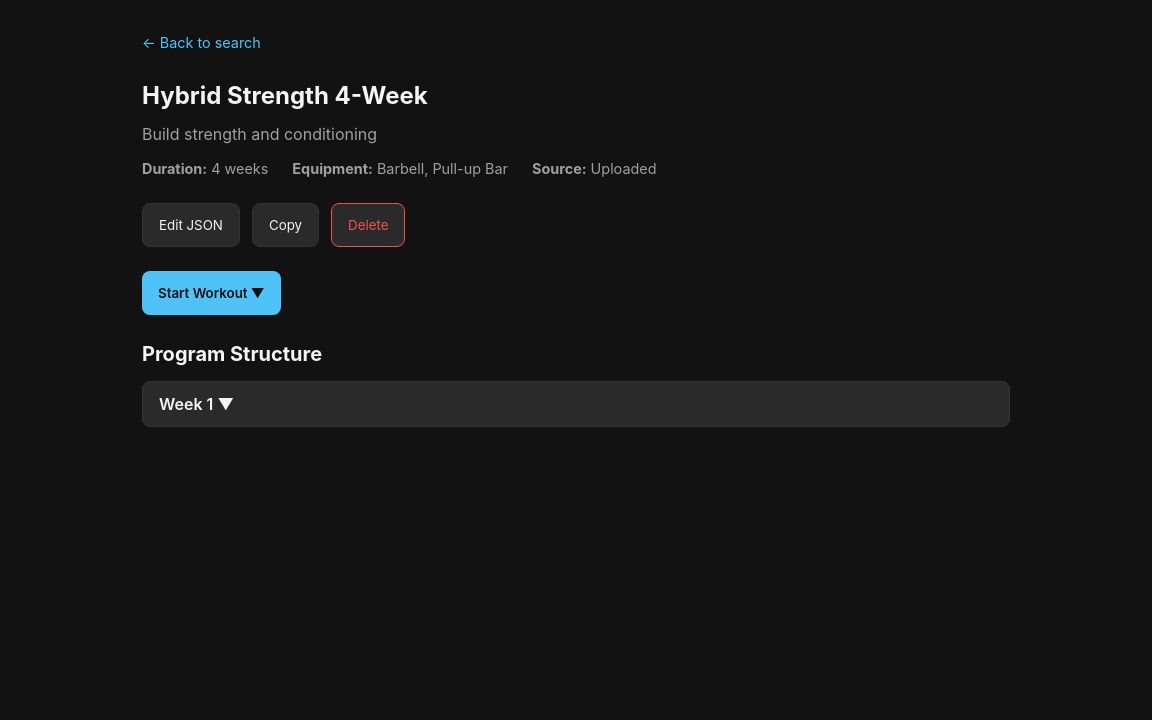
ProgramDetailPage › expands day to show focus area, modality, and sections when day button is clicked
The width and height of the screenshot is (1152, 720).
# Expand week first
Click the button "Week 1 ▼": (183, 404) [142,381,1010,427]
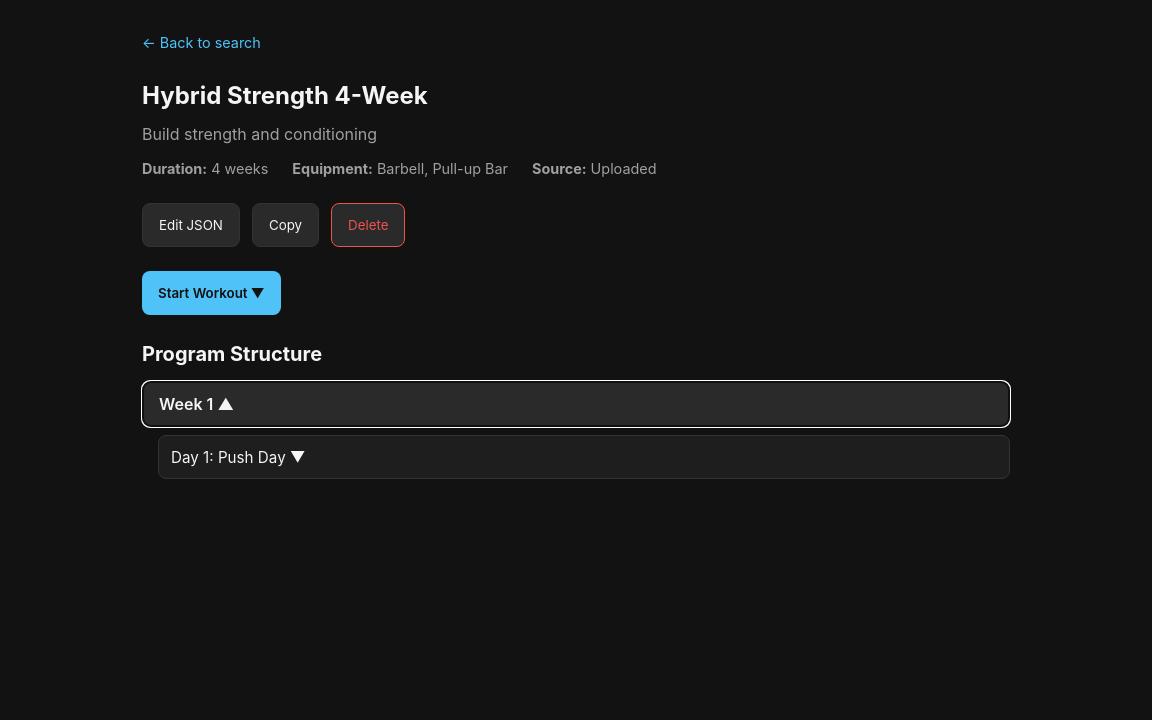
# Expand day
Click the button "Day 1: Push Day ▼": (187, 457) [158,435,1010,479]
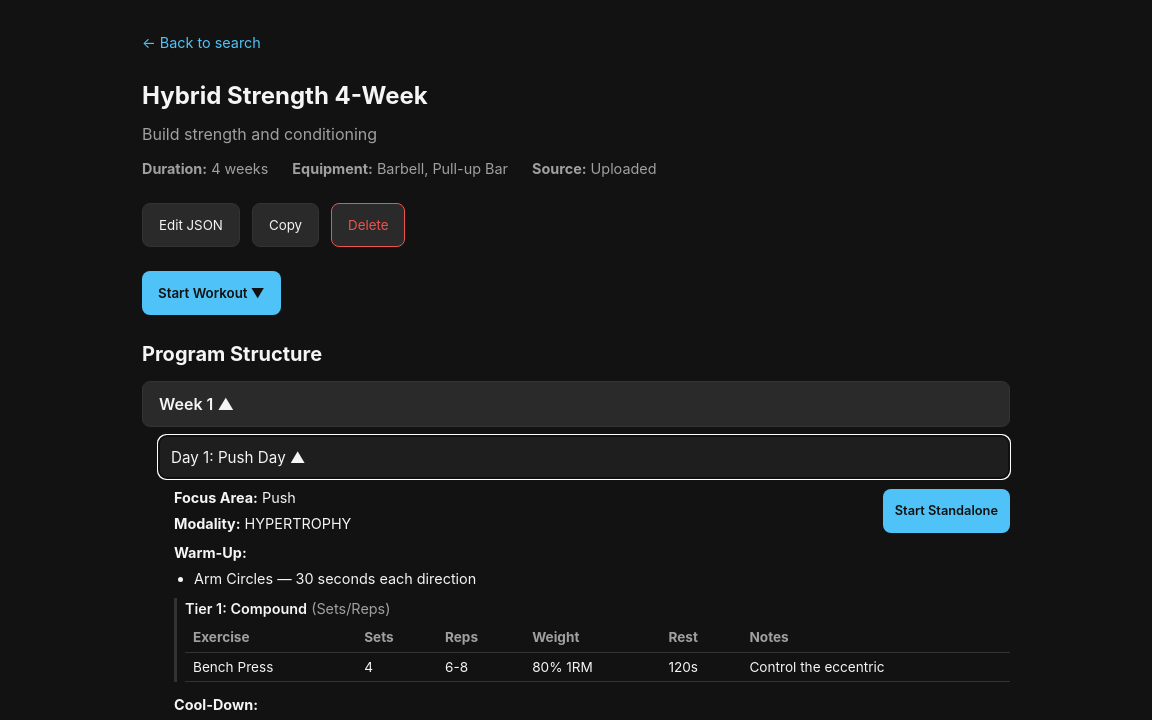
Expected: the button "Day 1: Push Day ▲" is expanded, [158,435,1010,479]
Expected: the text "Focus Area:" is shown, [174,489,258,506]
Expected: the text "Modality:" is shown, [174,515,240,532]
